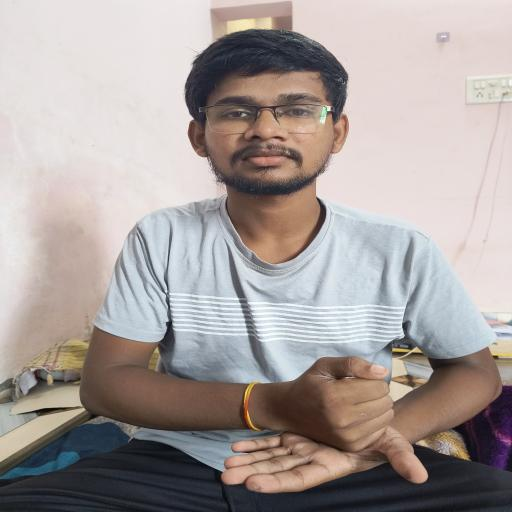Next: (198, 330, 456, 501)
